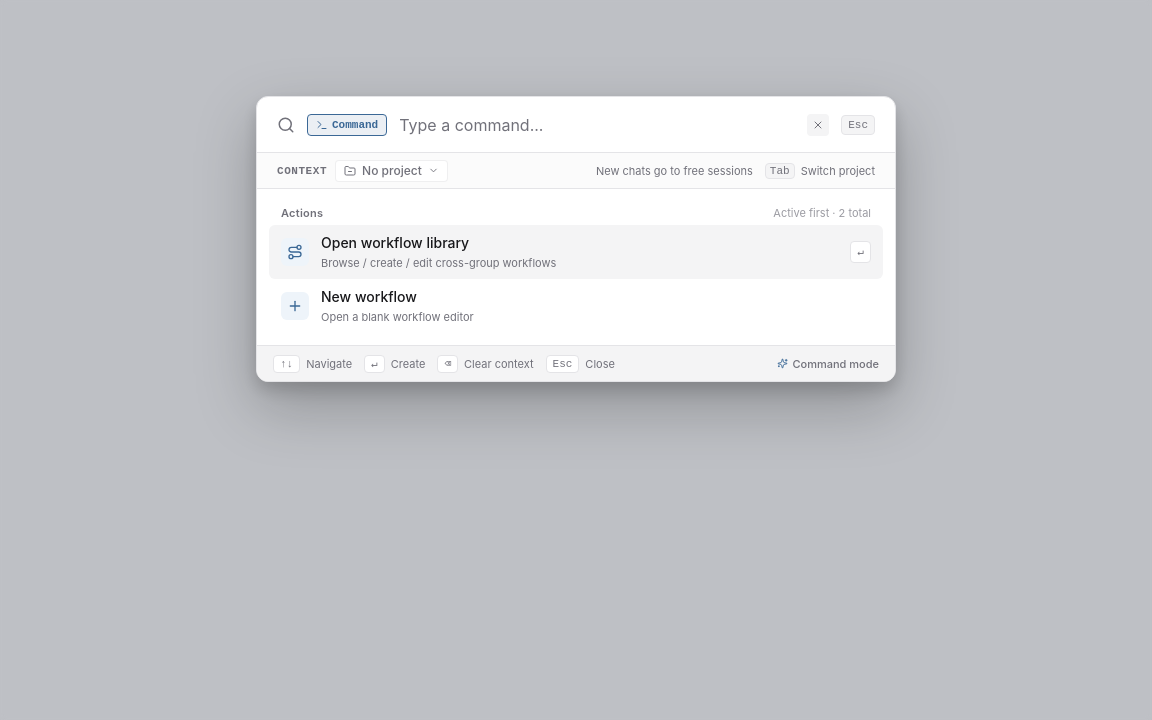
Test case: CommandPalette — ContextBar 项目 chip 可点击切换 (BDD) › Given projects in tree, When clicking the project chip, Then the popover lists 无项目 + each project
This screenshot has width=1152, height=720.
What coordinates should you click on to do the following:
click the button with aria-label "Switch project context"
I would click on:
 (391, 170)
Its box is [335,160,448,182].
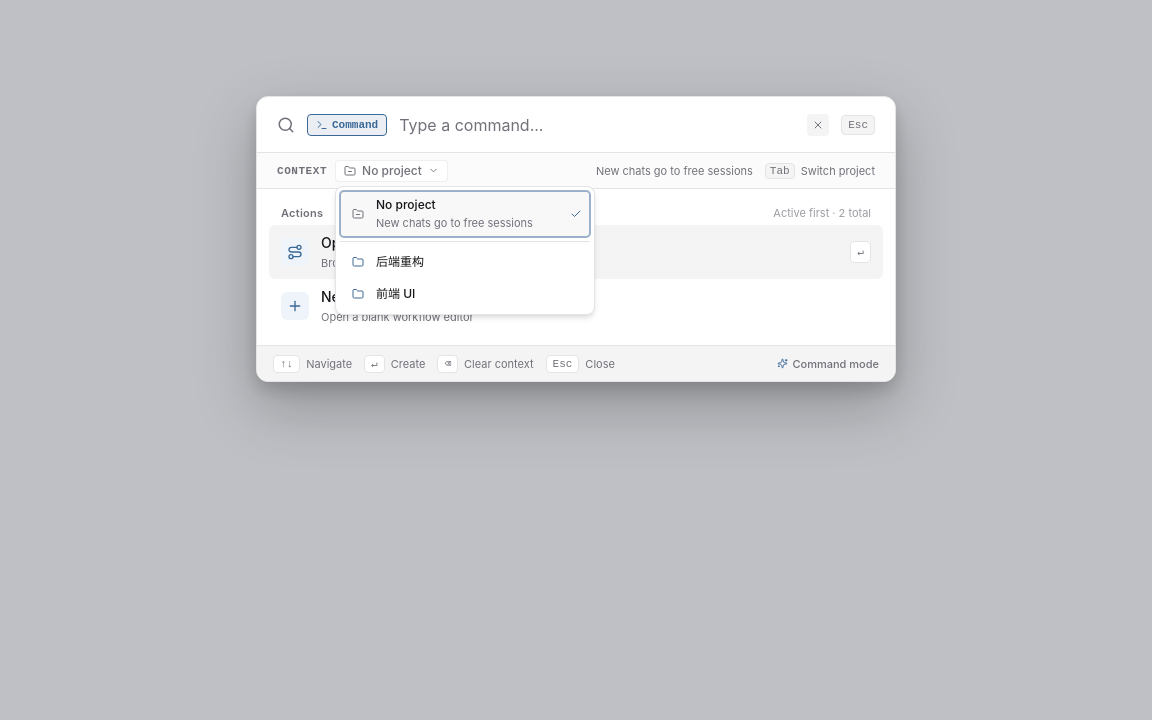
Expected: the text "后端重构" is shown, [376,254,424,269]
Expected: the text "前端 UI" is shown, [376,286,415,301]
